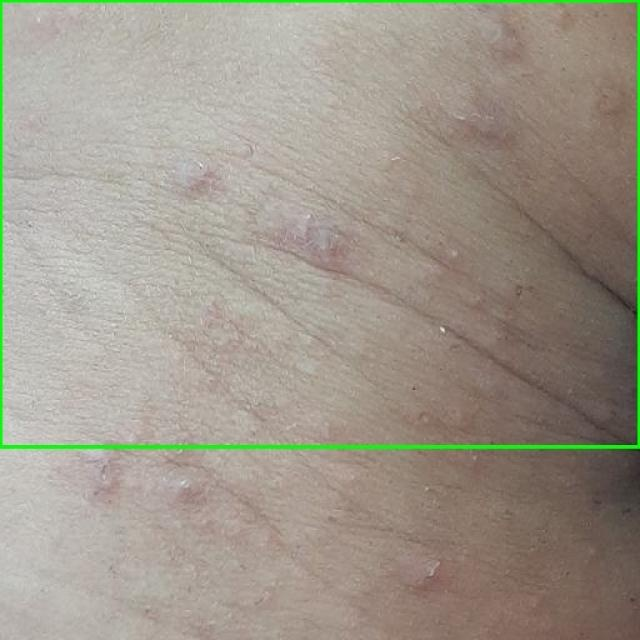Scabies: (0, 0, 639, 446)
